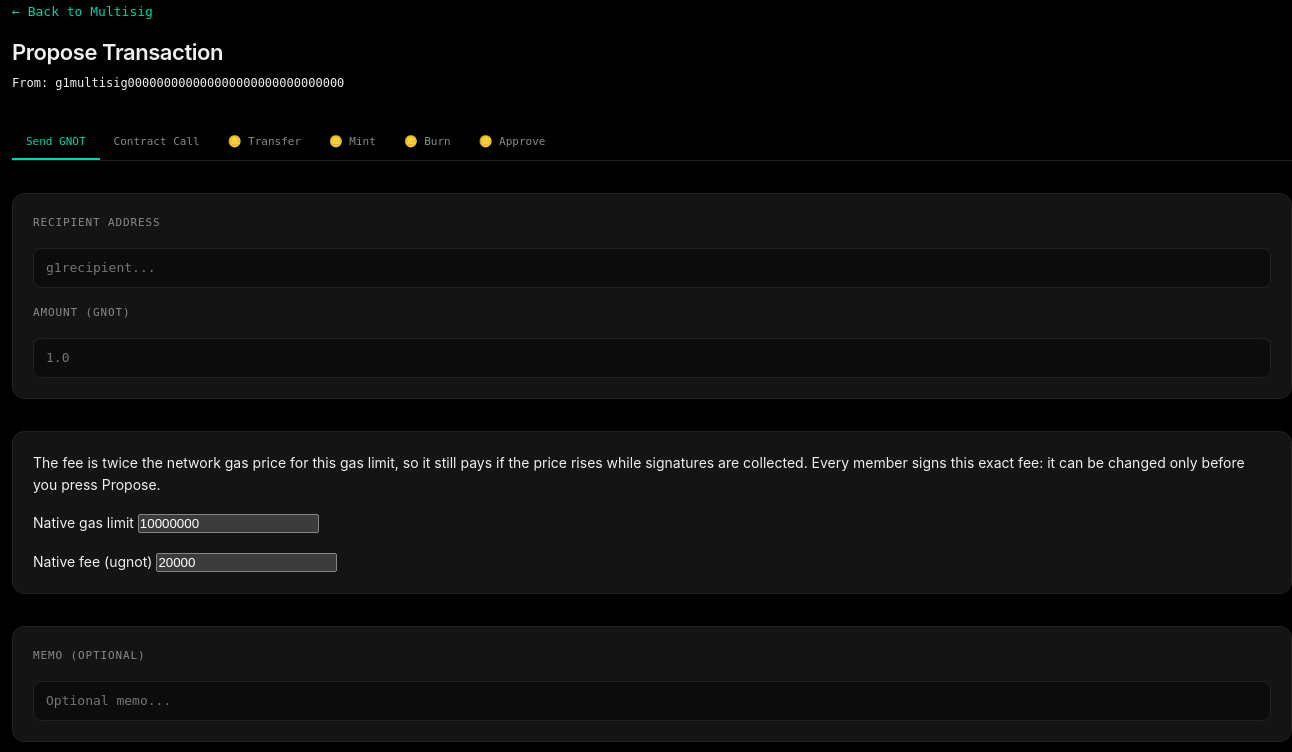
Test: ProposeTransaction — native fee at the network price › defaults to twice a fresh network price for the gas limit and follows the limit until the member types a fee
The image size is (1292, 752).
Expected: the field labelled "Native fee (ugnot)" is not empty, [156, 553, 337, 572]
Expected: the field labelled "Native fee (ugnot)" holds "20000", [156, 553, 337, 572]
Replace the text in the field labelled "Native gas limit" with "20000000". click: (228, 524)
box: [138, 514, 319, 533]
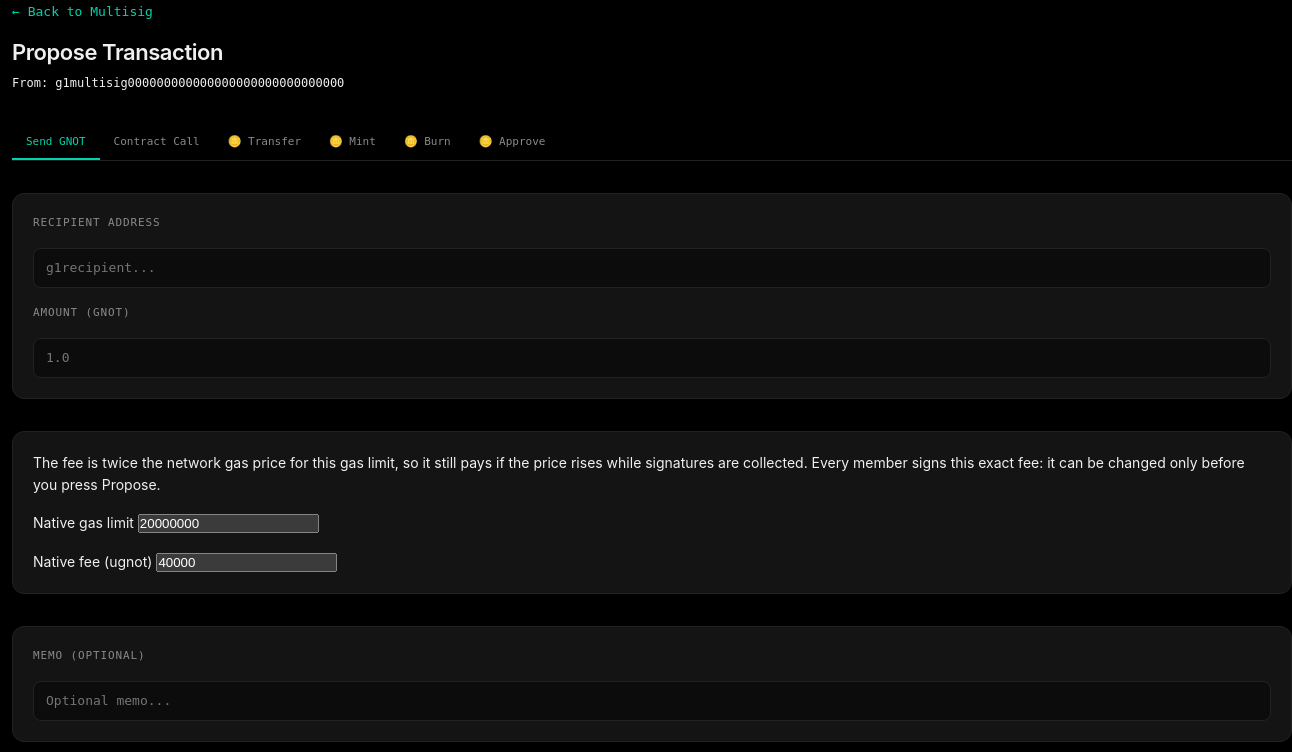
Result: the field labelled "Native fee (ugnot)" holds "40000"
Replace the text in the field labelled "Native fee (ugnot)" with "50000". click: (247, 562)
box: [156, 553, 337, 572]
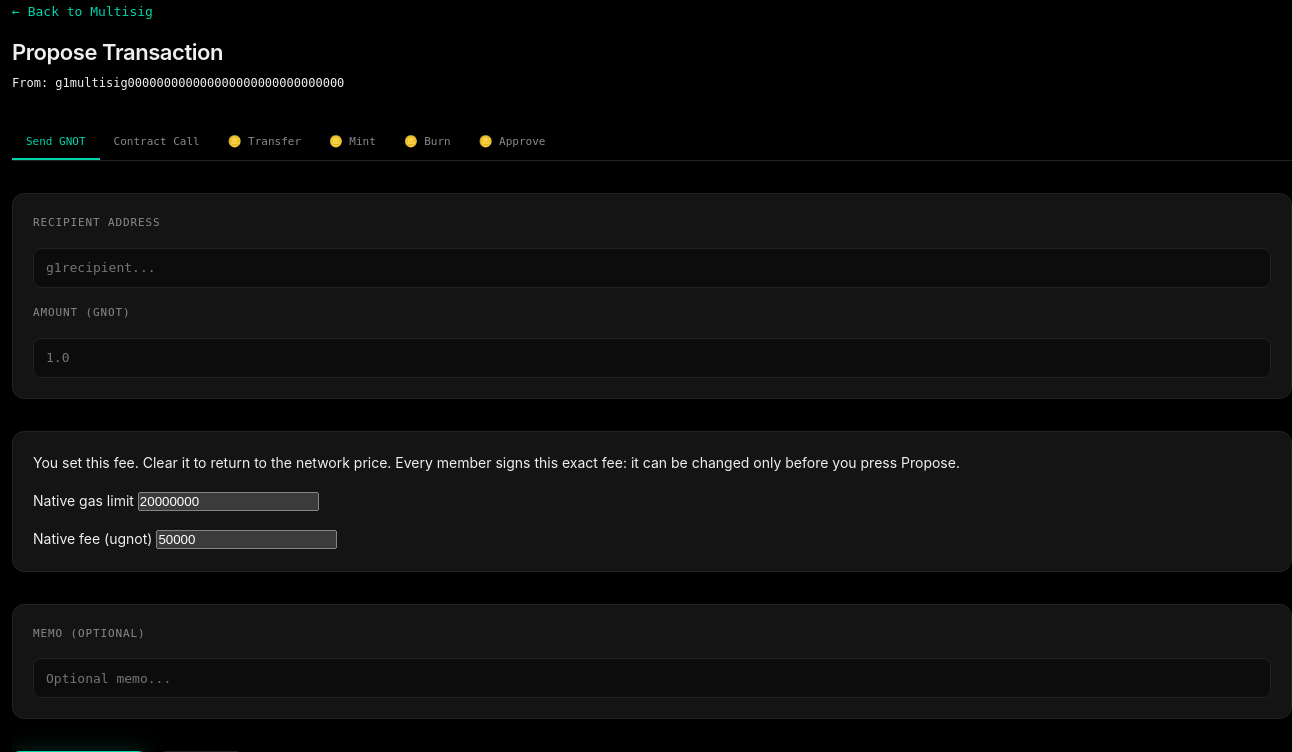
Replace the text in the field labelled "Native gas limit" with "30000000". click: (228, 502)
box: [138, 492, 319, 511]
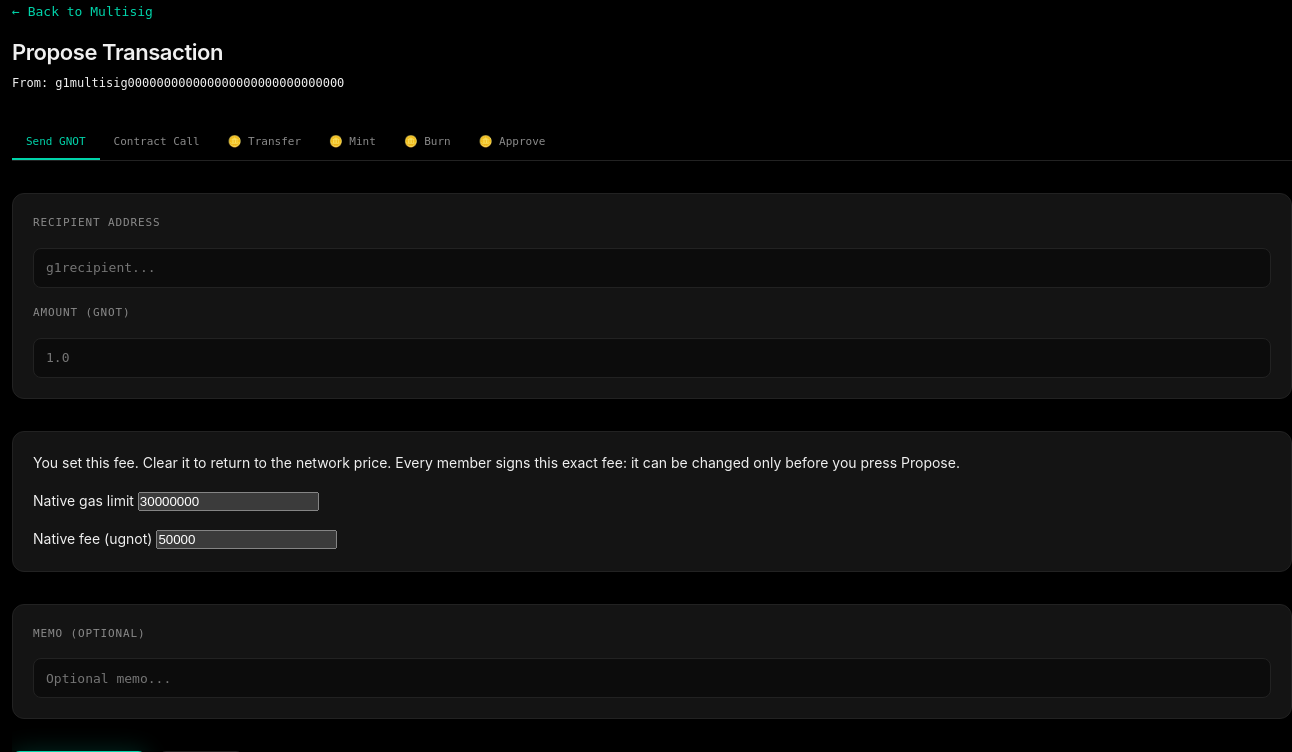
Expected: the text "twice the network gas price" is not shown
Result: the text "You set this fee. Clear it to return to the network price." is shown at [33, 454, 391, 471]
Note: Cleared: back to the priced fee for the current limit.
Clear the field labelled "Native fee (ugnot)". click: (247, 540)
box: [156, 530, 337, 549]
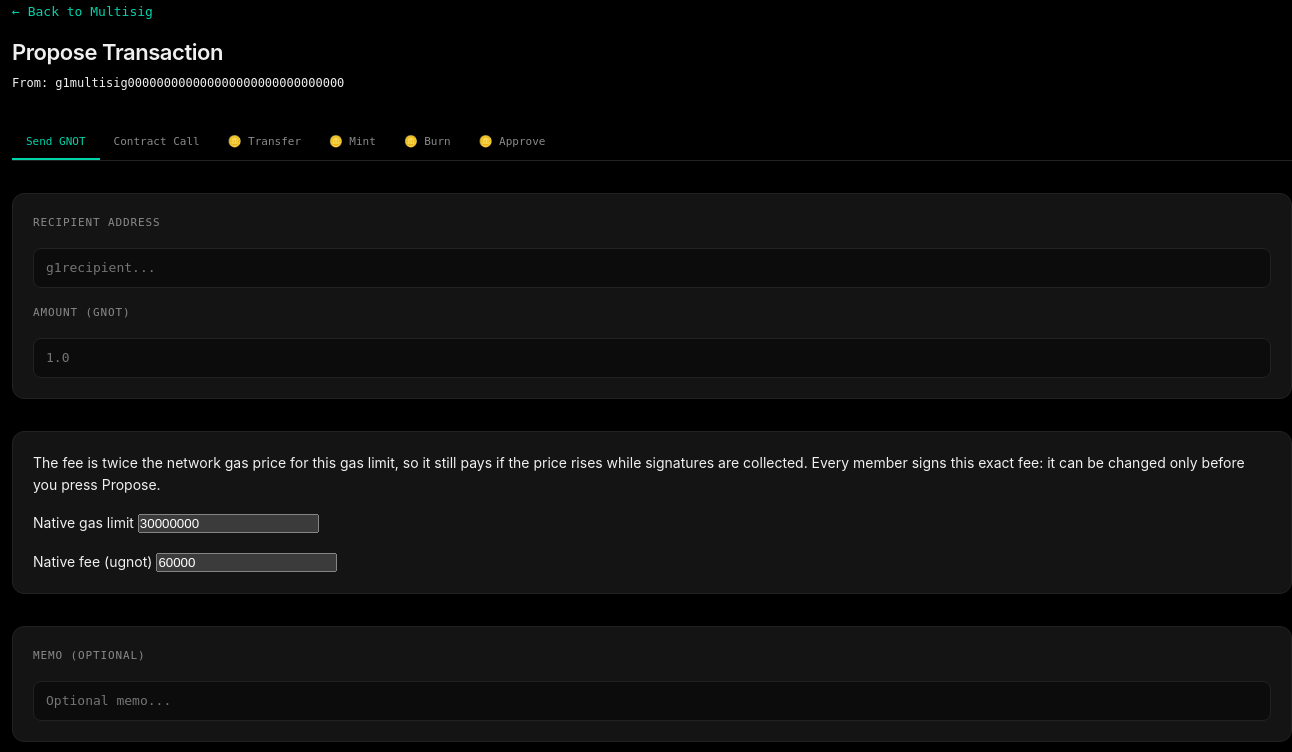
Result: the field labelled "Native fee (ugnot)" holds "60000" at [156, 553, 337, 572]
